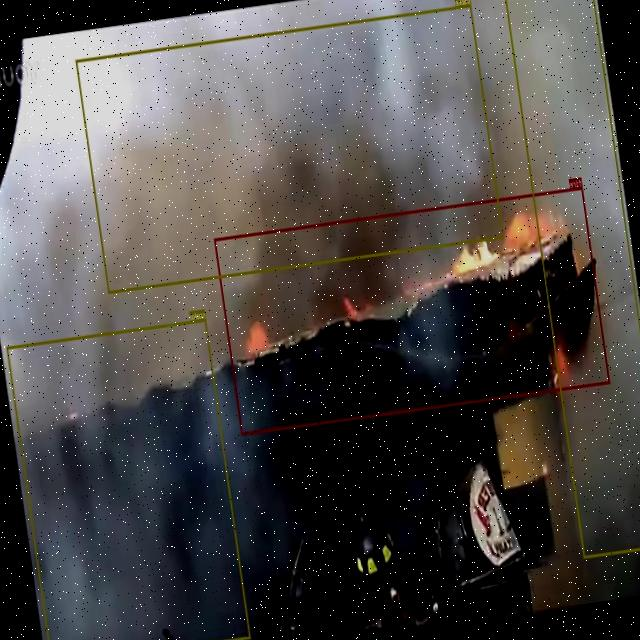fire: (214, 186, 610, 435)
smoke: (76, 3, 504, 294), (7, 318, 251, 640), (502, 0, 640, 558)
